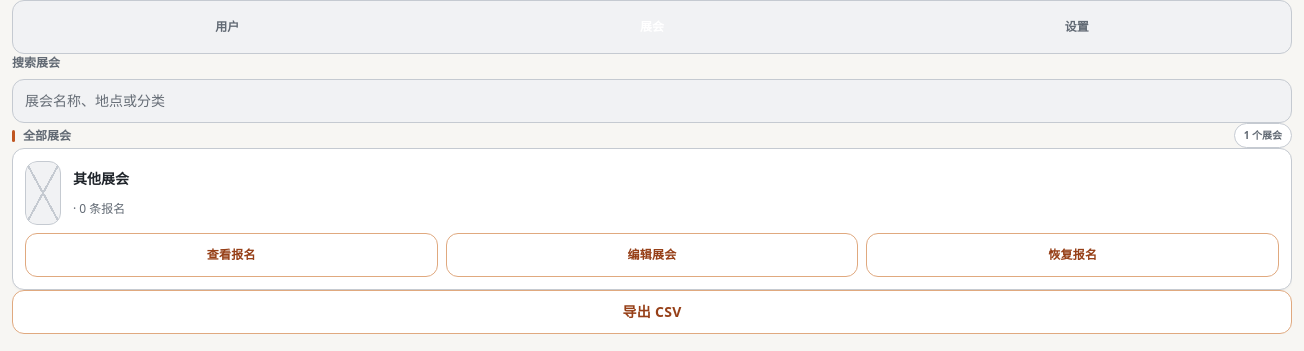
Test case: 管理页搜索 › 展会分区的搜索读取展会并更新实际列表
This screenshot has width=1304, height=351.
Type "目标" into the search field with id "admin-exhibition-search" at (652, 101), box [12, 79, 1292, 123]
Wait 220 ms
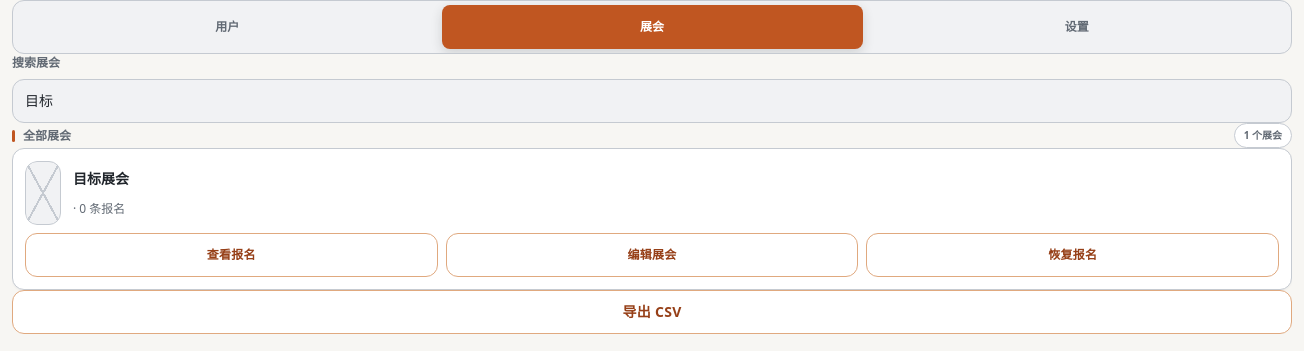
Check: the text "目标展会" is shown, box [73, 169, 129, 188]
Check: the text "其他展会" is gone
